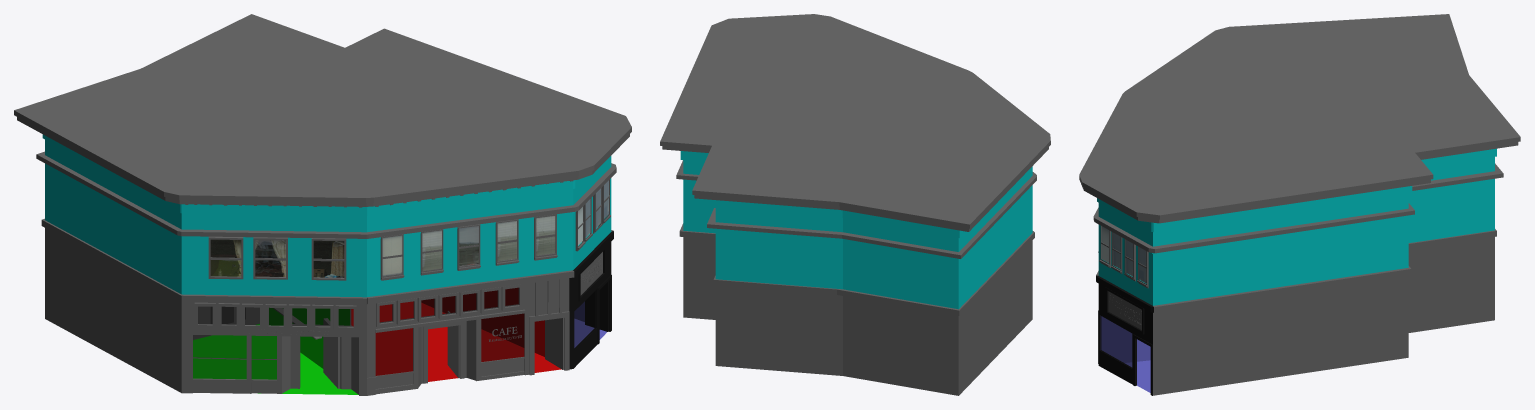
Rendered from Oshaugnhessy.fbx.
3 views of the same model, side by side, from view 1: azimuth 30°, elevation 25°; view 2: azimuth 150°, elevation 25°; view 3: azimuth 270°, elevation 25° (orthographic). The views are drawn at different scales.
Parts seen in each view (by area): view 1: pCube2, polySurface16, TexturedWindows_SecondFloor, Windows_FirstFloor, FrameWindows_SecondFloor, M_TablePostOffice, Osh_Door02, Osh_Door04, Osh_Door01, Osh_Door03; view 2: pCube2, polySurface16; view 3: pCube2, polySurface16, TexturedWindows_SecondFloor, FrameWindows_SecondFloor.
Boxes of the visible parts, x1,y1,x2,y2 form: pCube2: (14, 14, 631, 395); polySurface16: (42, 134, 611, 297); TexturedWindows_SecondFloor: (210, 180, 608, 277); Windows_FirstFloor: (194, 284, 522, 329); FrameWindows_SecondFloor: (208, 179, 610, 280); M_TablePostOffice: (193, 306, 259, 339); Osh_Door02: (545, 318, 563, 369); Osh_Door04: (323, 318, 340, 388); Osh_Door01: (585, 281, 608, 331); Osh_Door03: (447, 311, 459, 378); pCube2: (660, 14, 1050, 395); polySurface16: (680, 151, 1032, 309); pCube2: (1079, 14, 1520, 395); polySurface16: (1097, 148, 1496, 305); TexturedWindows_SecondFloor: (1101, 226, 1146, 282); FrameWindows_SecondFloor: (1098, 226, 1148, 288).
Size of the model in its own units: 38.37 by 16.77 by 35.56.
Materials: 24 (1 with a texture image).
